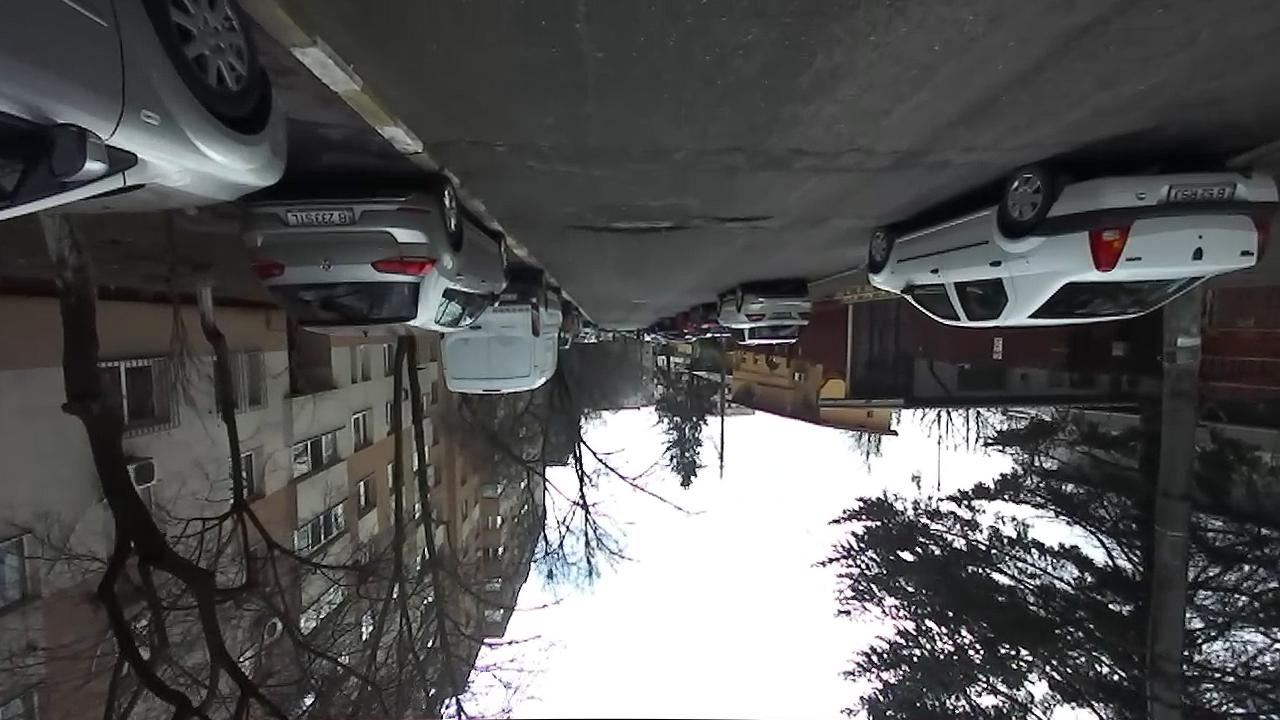pothole: (563, 217, 688, 237), (693, 213, 775, 227)
